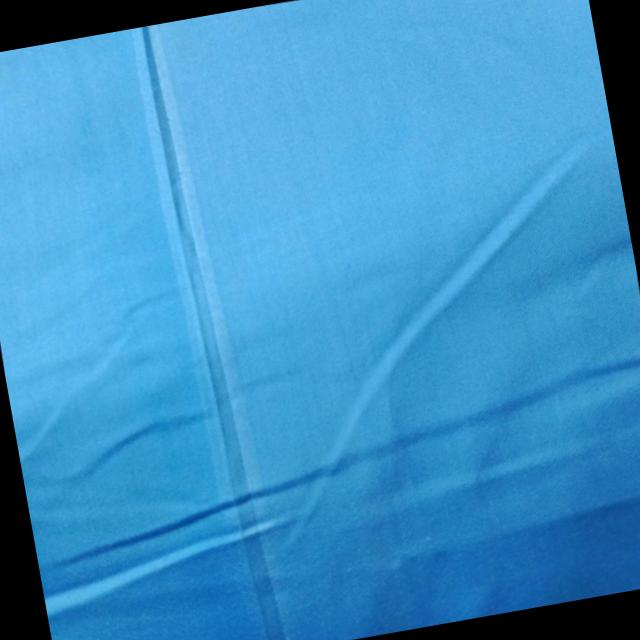selvet: (110, 15, 317, 640)
